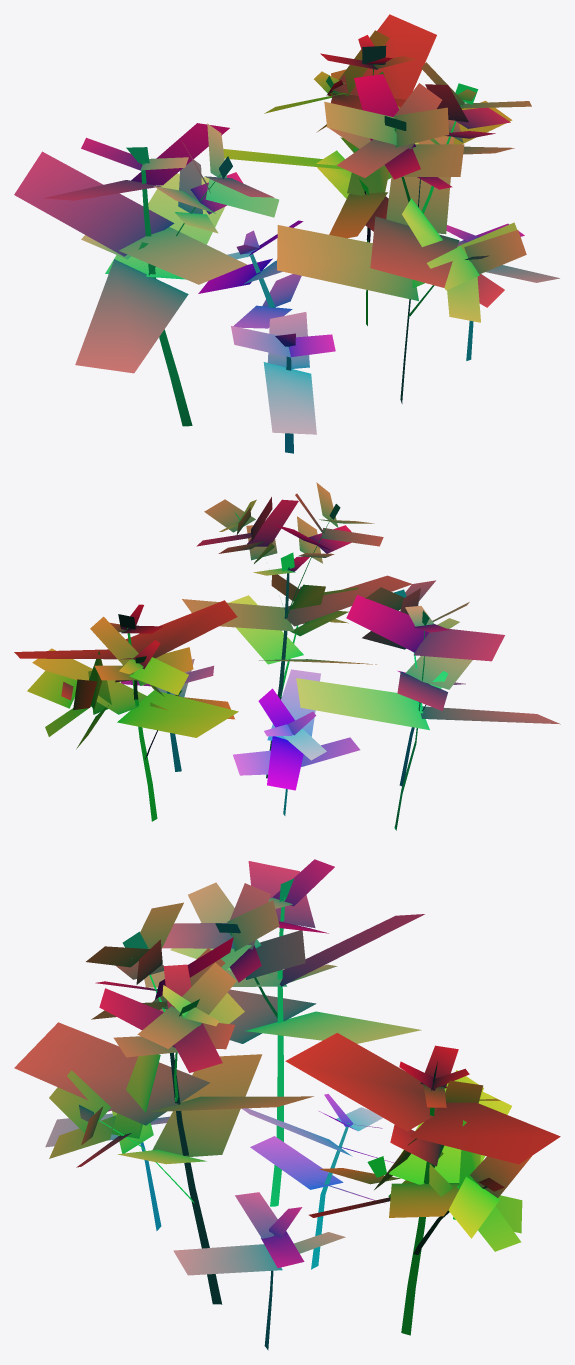
The model's file is Common_Hemp_Nettle_xh1kdfbqx_Low_xh1kdfbqx_VarG_LOD2.fbx.
The picture shows the model from 3 angles, top to bottom: view 1: azimuth 30°, elevation 25°; view 2: azimuth 150°, elevation 25°; view 3: azimuth 270°, elevation 25°; orthographic projection. The views are drawn at different scales.
Parts seen in each view (by area): view 1: _8pg5_VarG_LOD4; view 2: _8pg5_VarG_LOD4; view 3: _8pg5_VarG_LOD4.
Part boxes in pixels (x1=…): _8pg5_VarG_LOD4: x1=14, y1=14, x2=559, y2=453; _8pg5_VarG_LOD4: x1=14, y1=482, x2=560, y2=830; _8pg5_VarG_LOD4: x1=14, y1=859, x2=560, y2=1350.
Size of the model in its own units: 153 by 92.82 by 127.
